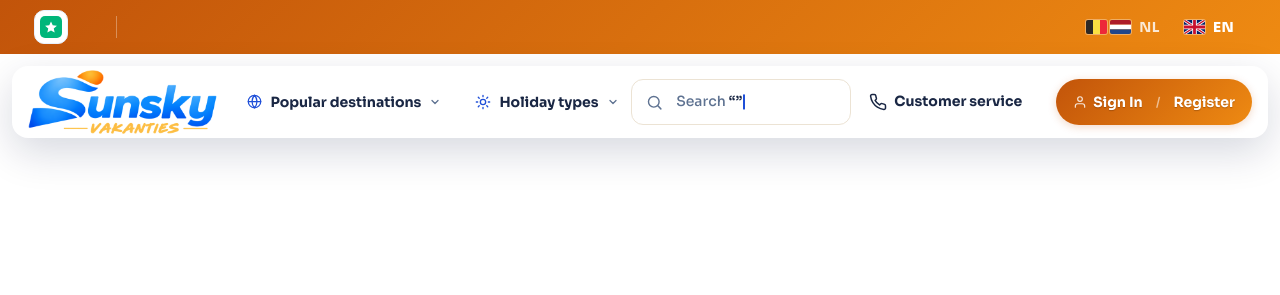
Test: menus (version 2) › reads the English copy for an English visitor
Click the button "Holiday types" at (547, 102), box [471,83,623,121]
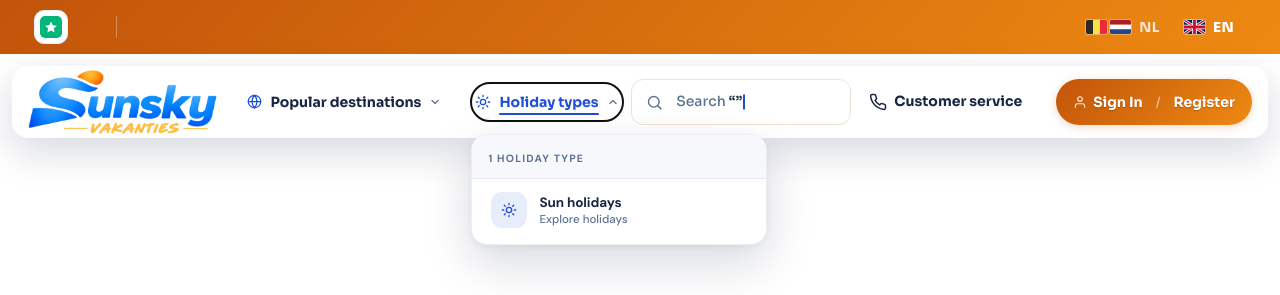
Expected: the link "Customer service" is shown, [869,92,1022,111]
Expected: the text "Sun holidays" is shown, [539,194,622,211]
Expected: the text "Explore holidays" is shown, [539,212,628,227]
